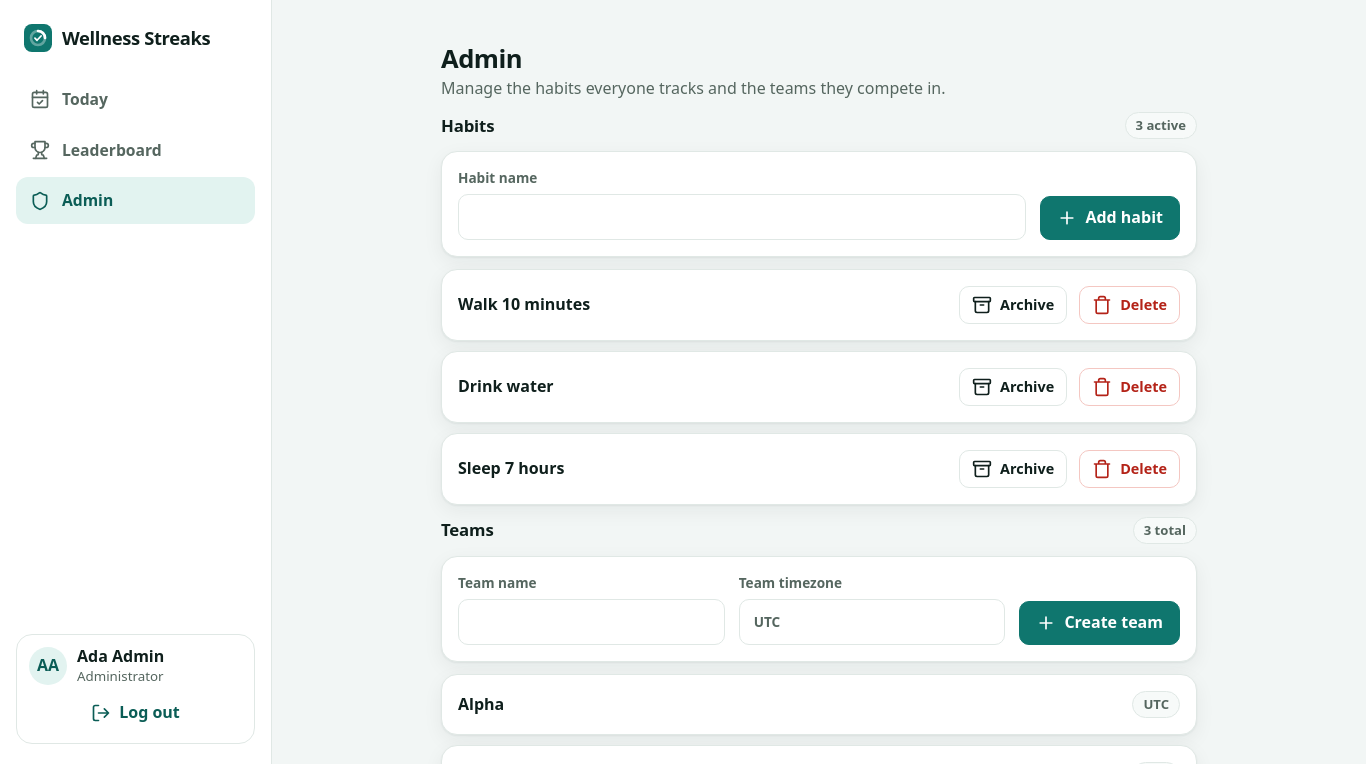
admin deletes habits › deletes an unused habit after confirming
Type "GYM" into the field labelled "Habit name" at coordinates (742, 217), box [458,194,1026,240]
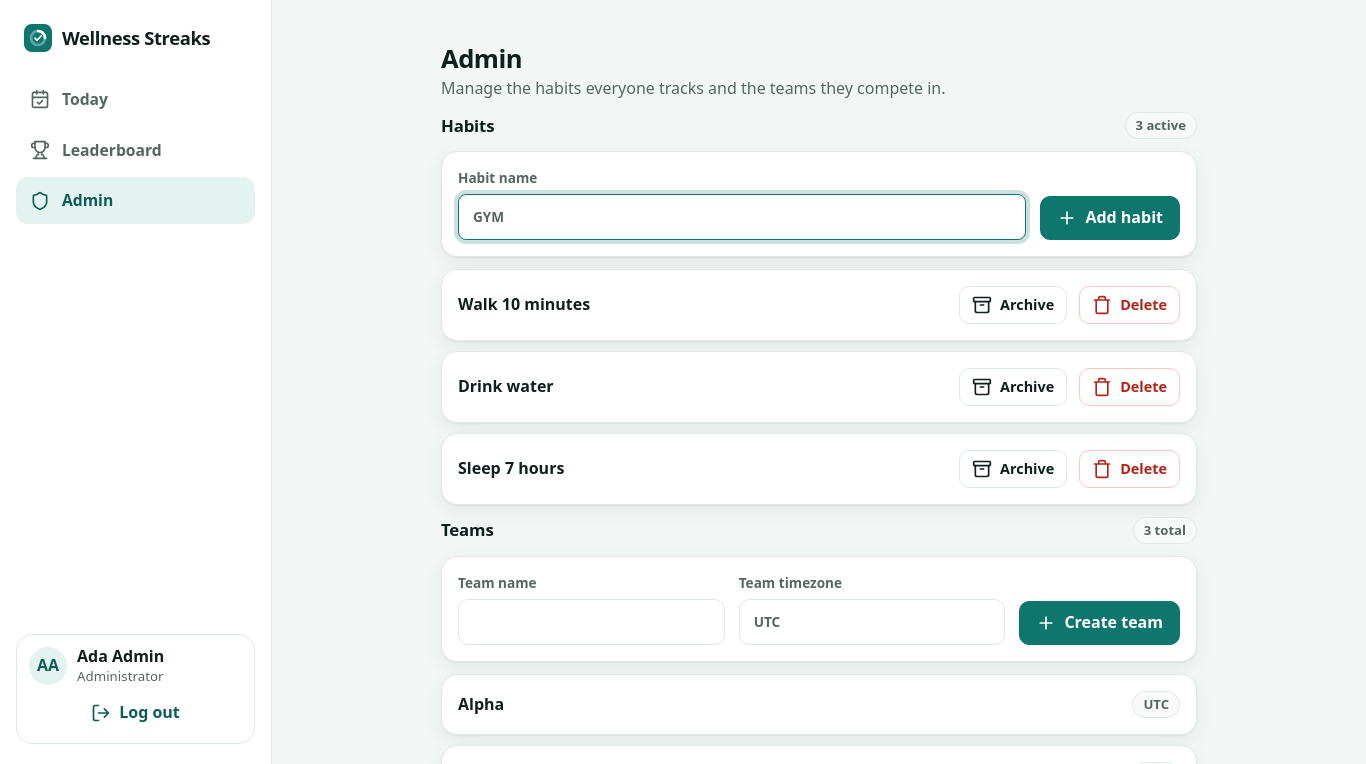
Click the button "Add habit" at coordinates (1110, 218), box [1040,196,1180,240]
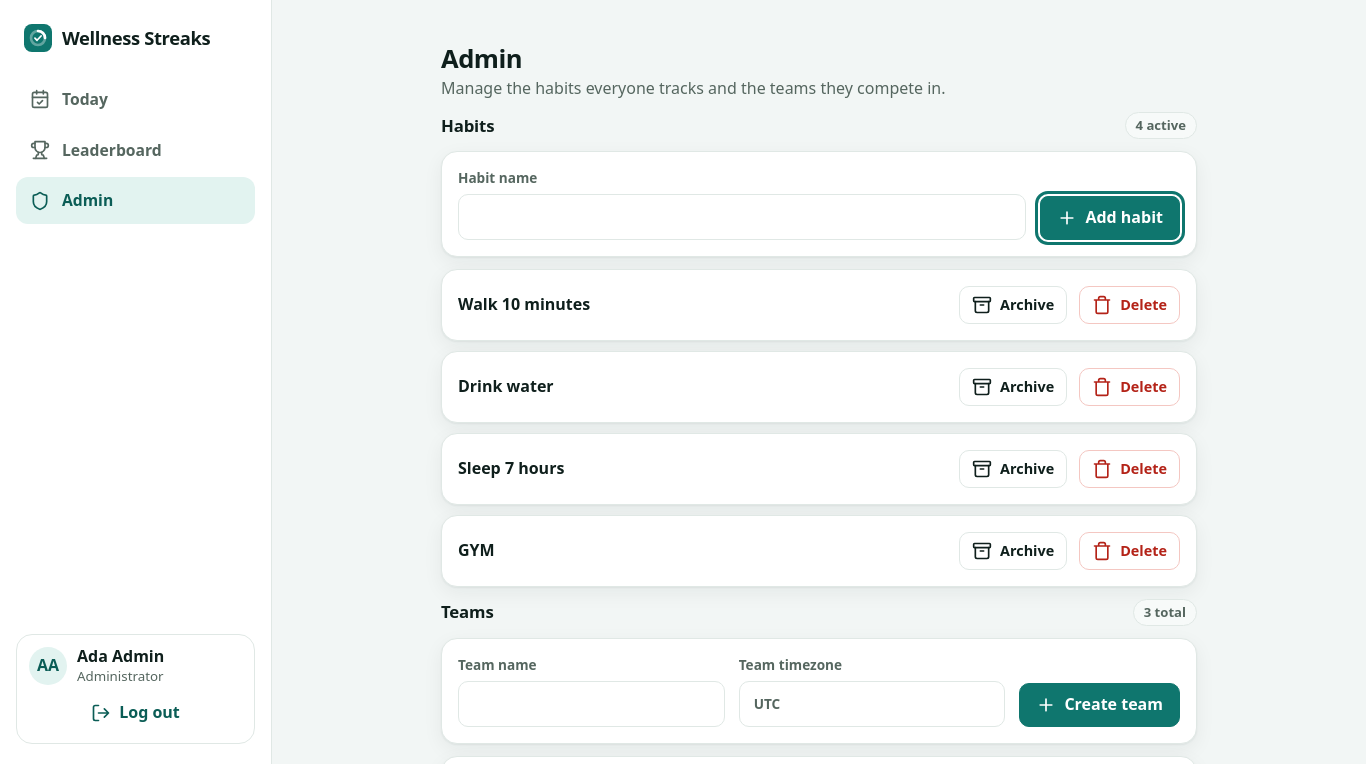
Check: the text "GYM" is shown, box [458,539,495,561]
Click the button with aria-label "Delete GYM" at coordinates (1130, 551), box [1079,532,1180,570]
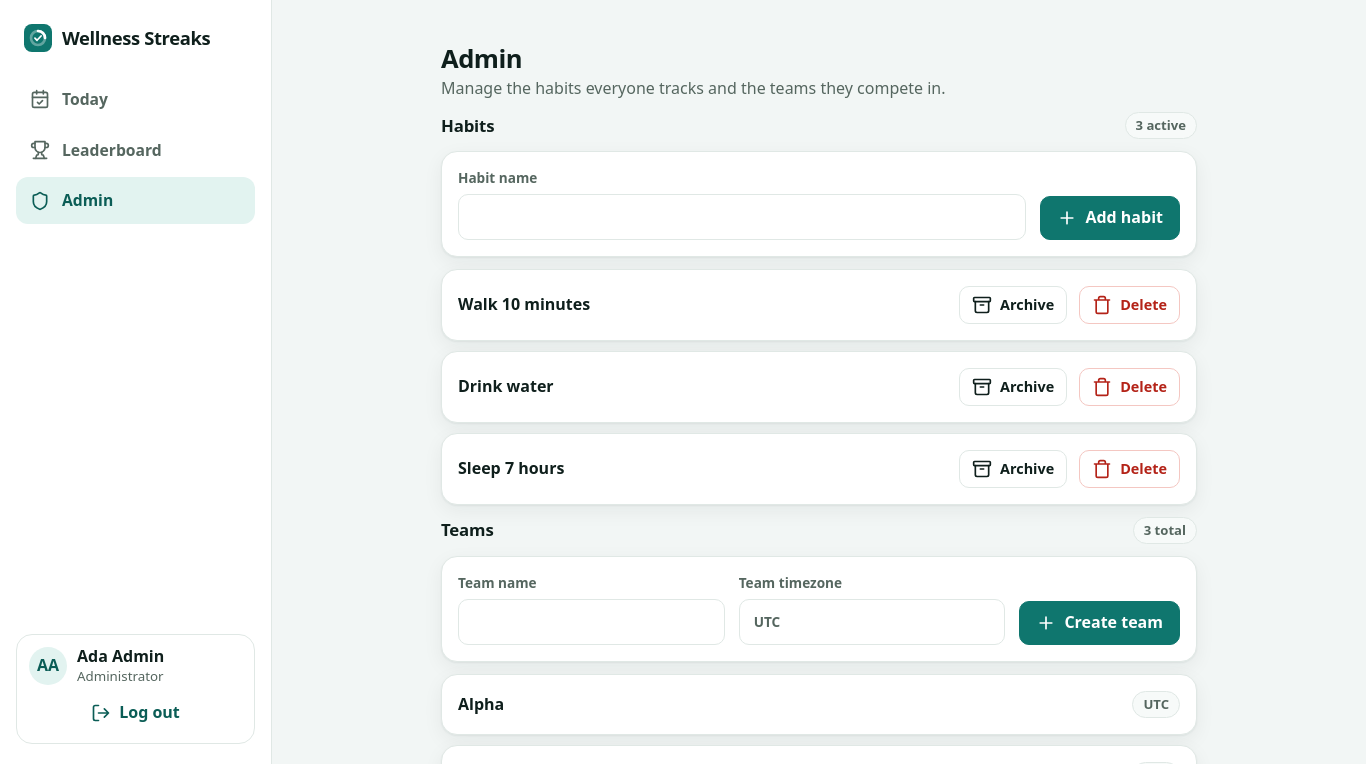
Check: the text "GYM" is gone
